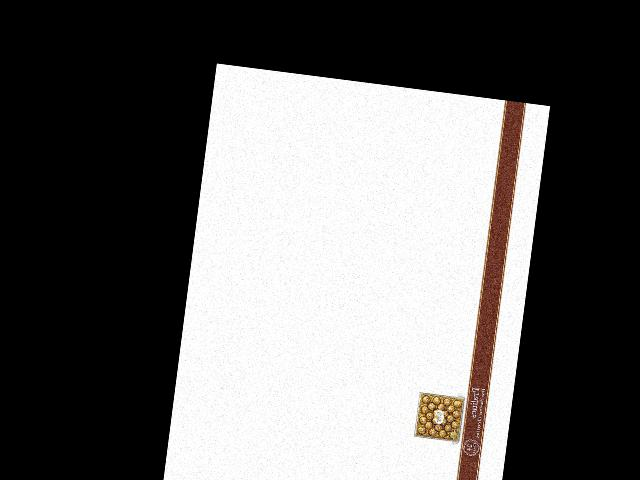chocolate: (410, 390, 467, 445)
